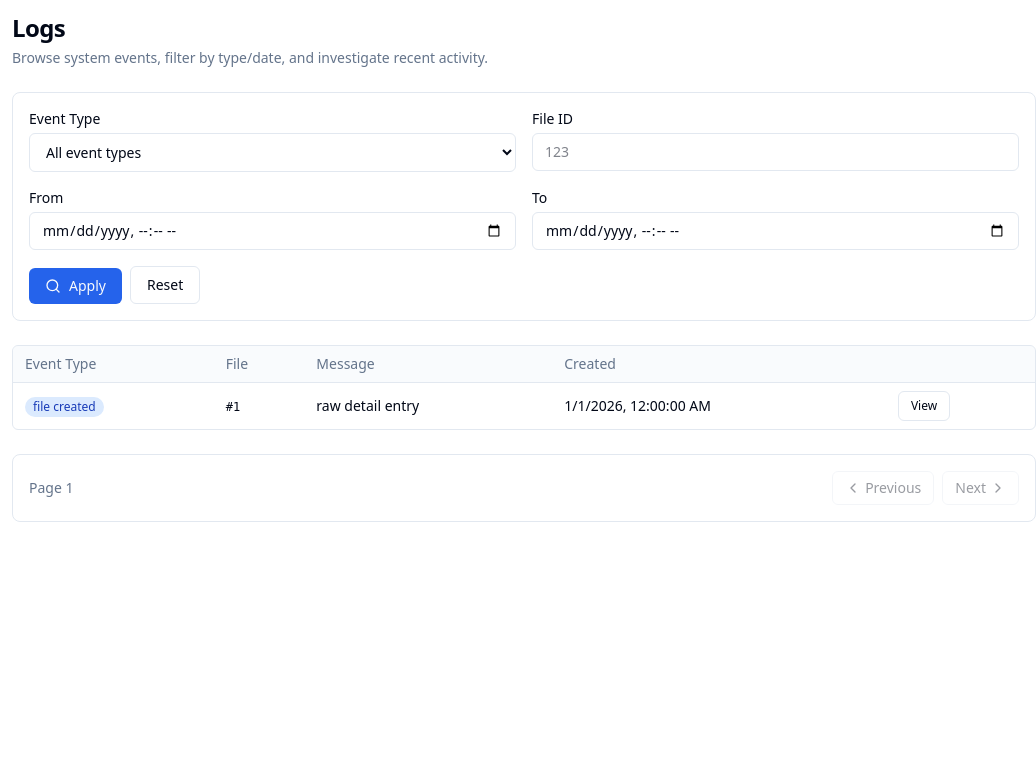
LogsPage › expands a log entry with raw (non-JSON) details
This screenshot has width=1036, height=780.
Expected: the row with test id "log-row-5" is shown, [13, 382, 1035, 429]
Click the button "View": {"x": 924, "y": 406} [898, 391, 950, 421]
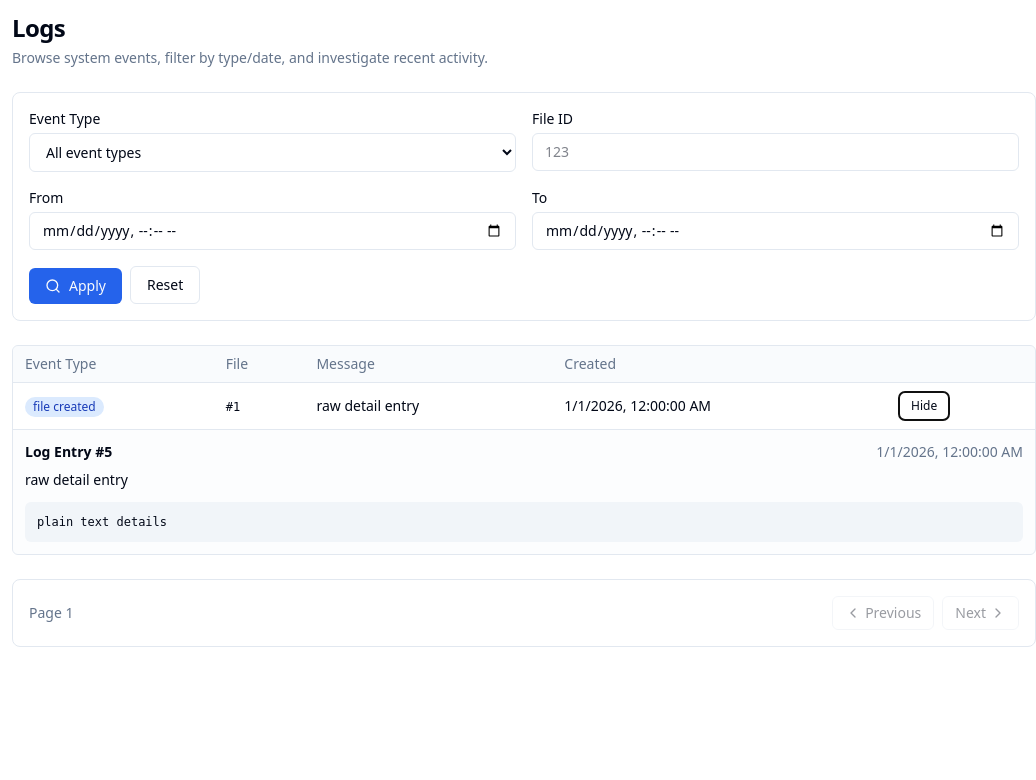
Expected: the text "plain text details" is shown, [25, 502, 1023, 542]
